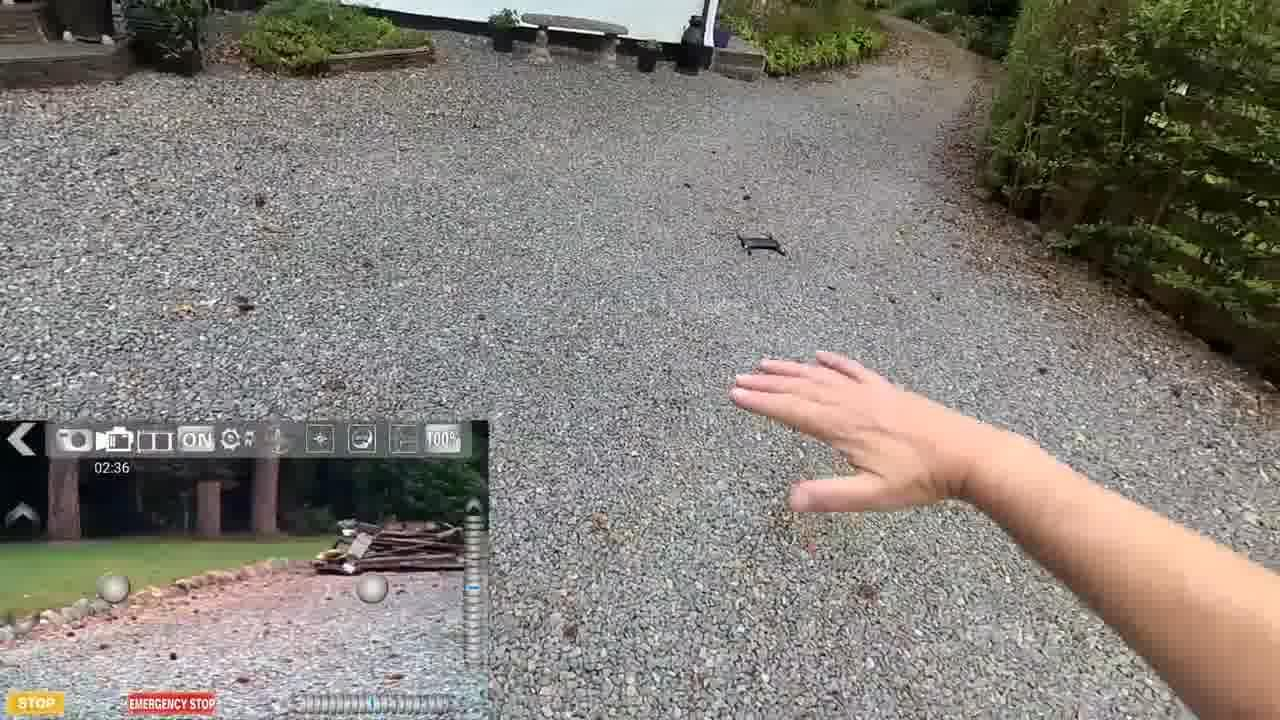drone: (727, 228, 792, 261)
